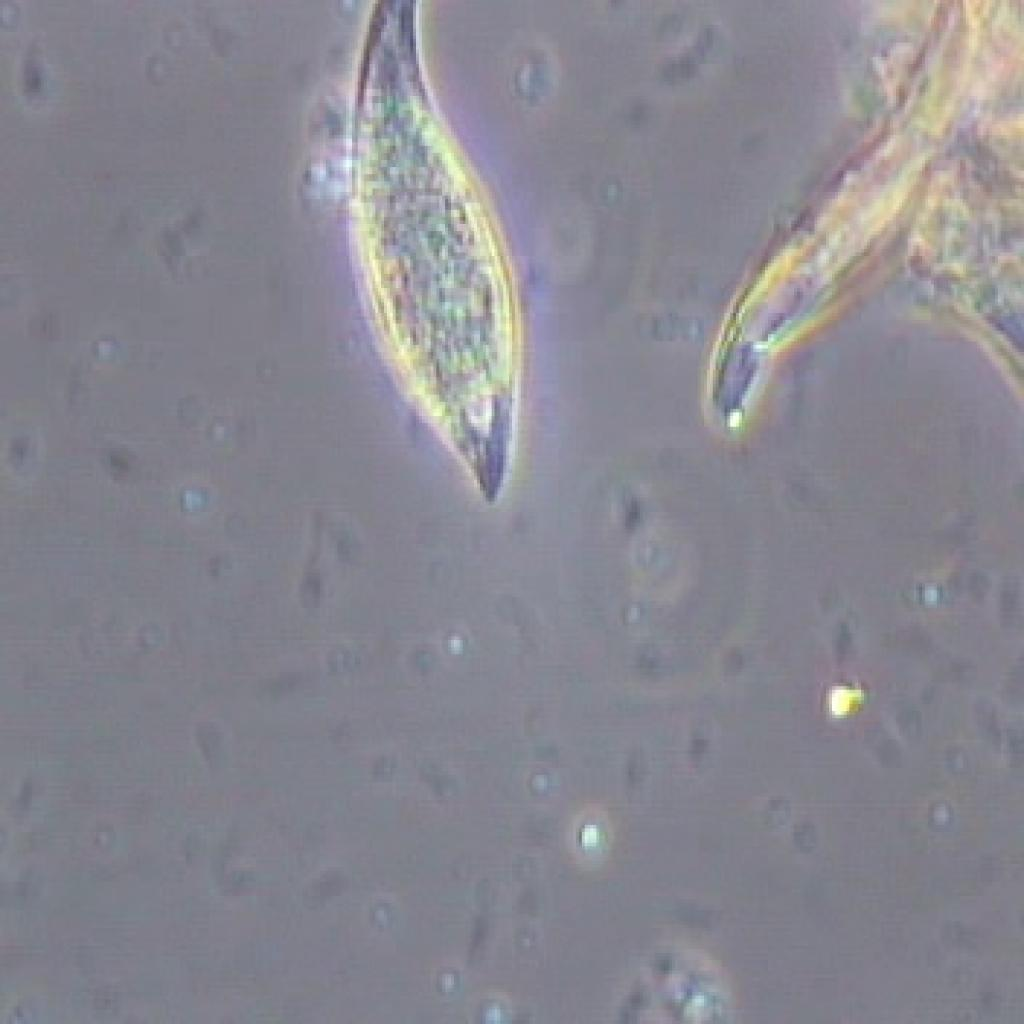Pristina: (292, 0, 569, 530)
